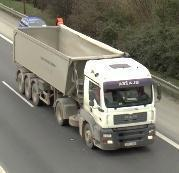Car: (17, 16, 47, 29)
Truck: (13, 27, 157, 151)
